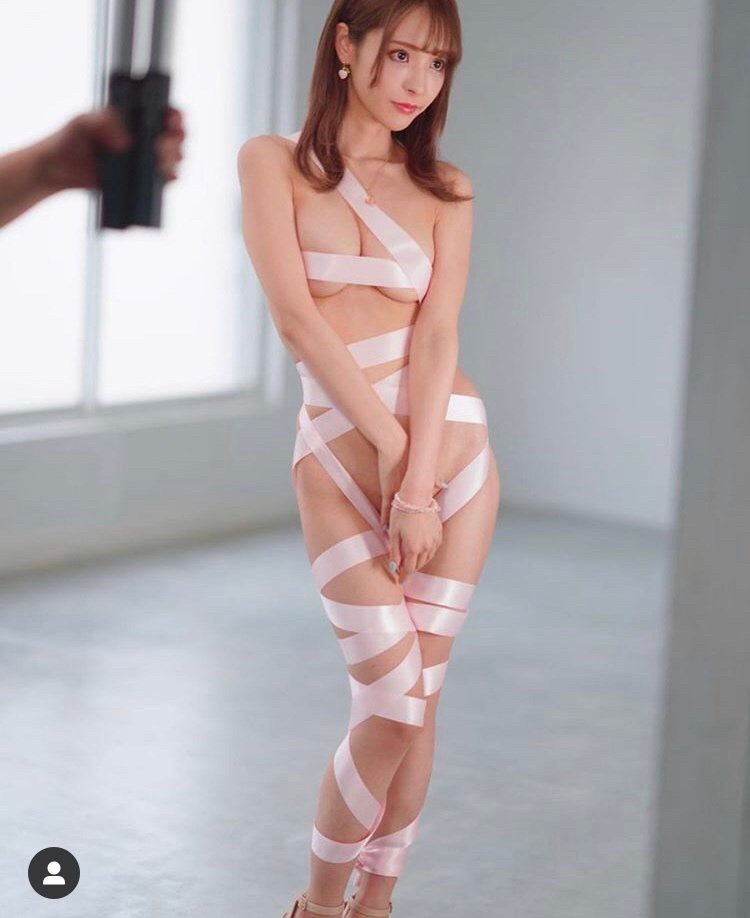people: (239, 1, 466, 912)
